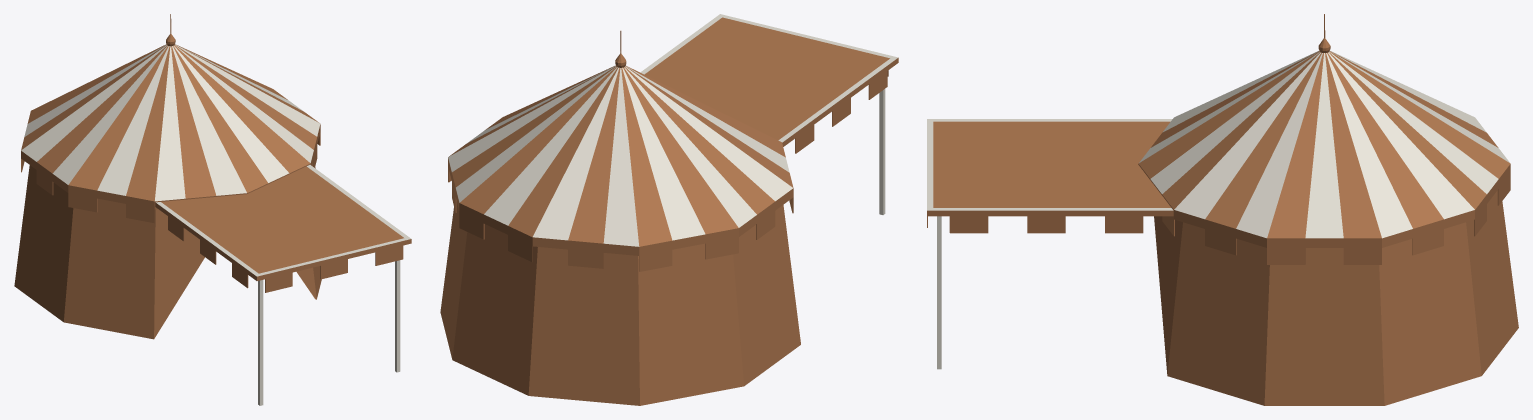
File: SPW_Medieval_Tent_02.glb
3 renders of one model, left to right at view 1: azimuth 30°, elevation 25°; view 2: azimuth 150°, elevation 25°; view 3: azimuth 270°, elevation 25°, orthographic. The views are drawn at different scales.
Parts seen in each view (by area): view 1: SPW_Medieval_Tent_02; view 2: SPW_Medieval_Tent_02; view 3: SPW_Medieval_Tent_02.
Boxes of the visible parts, x1,y1,x2,y2 form: SPW_Medieval_Tent_02: (14,14,411,405); SPW_Medieval_Tent_02: (440,14,898,405); SPW_Medieval_Tent_02: (927,14,1518,405).
Size of the model in its own units: 2.51 by 2.35 by 4.03.
1 material, 1 textured.
